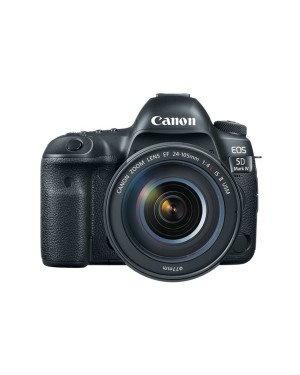kamera: (36, 90, 262, 293)
